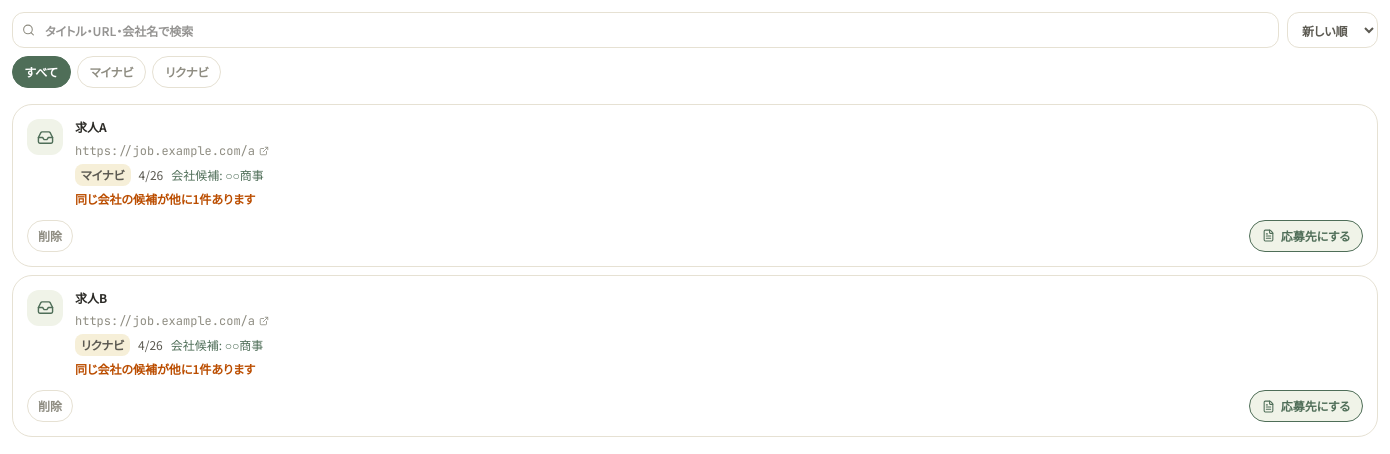
it: InboxList › ソースチップで絞り込める
Click the button "リクナビ": [187, 72] box [152,56,222,88]
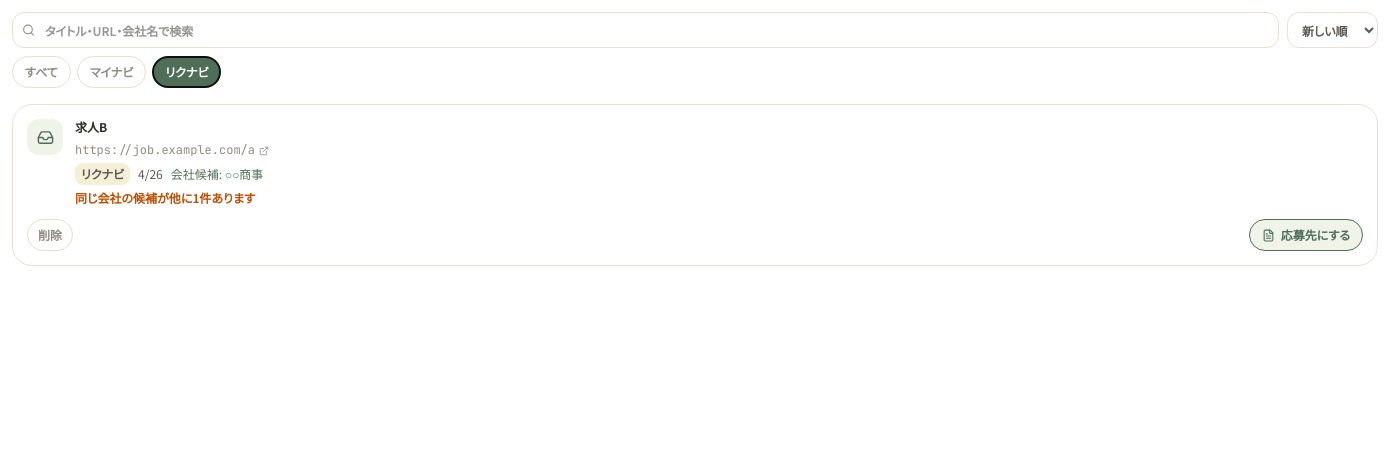
Expected: the text "求人B" is shown, [75,118,107,135]
Result: the number of list items is 1 at [12,104,1378,266]
